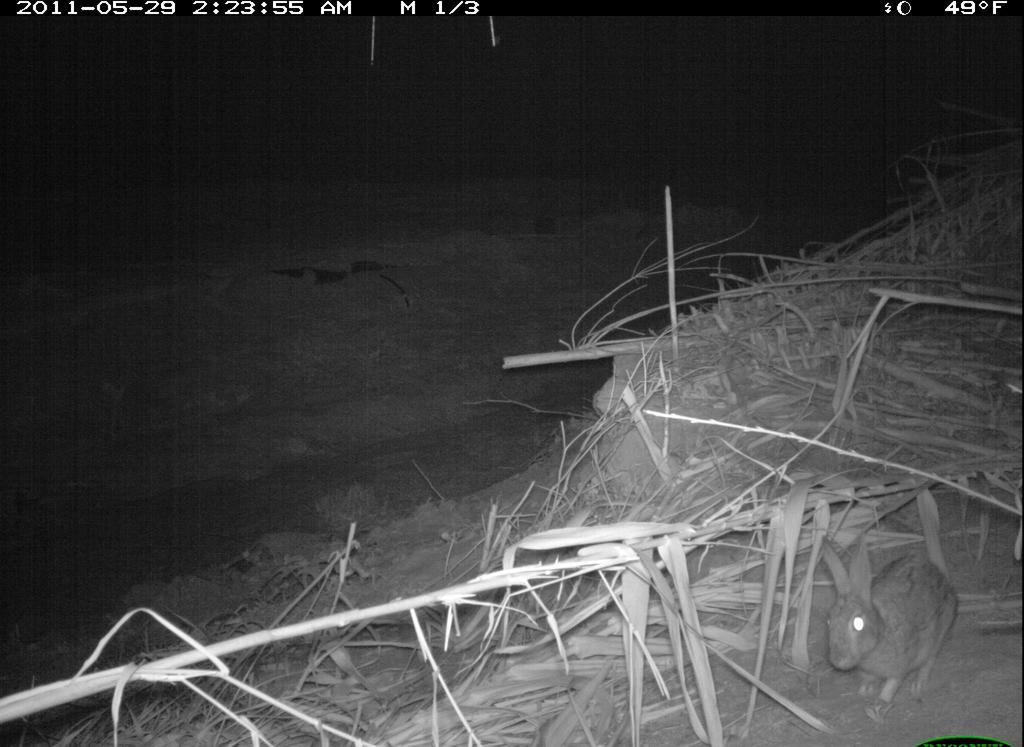rabbit: (811, 521, 964, 710)
